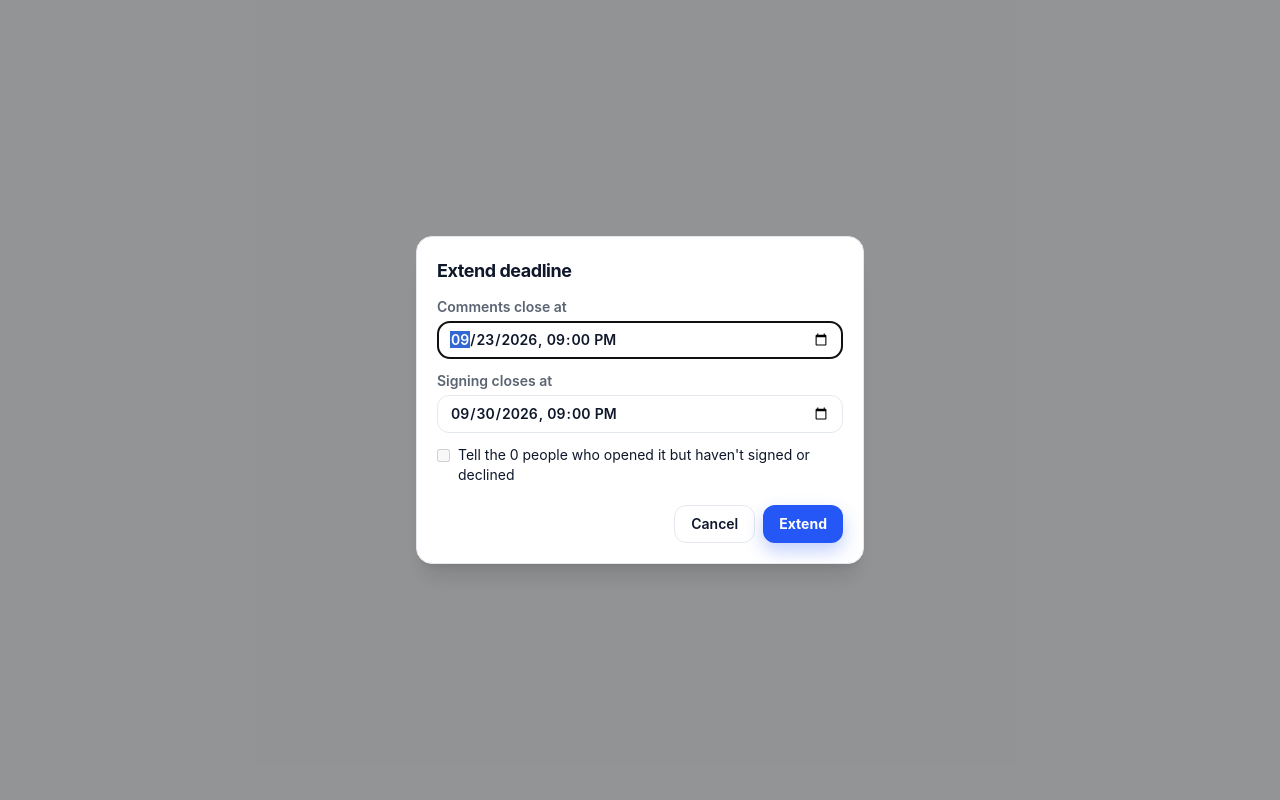
Scenario: ExtendDeadlineDialog › shows the deadline_not_later message on an earlier time
What coordinates should you click on to do the following:
click the button "Extend"
I would click on:
 (803, 524)
Its box is [763,505,843,543].
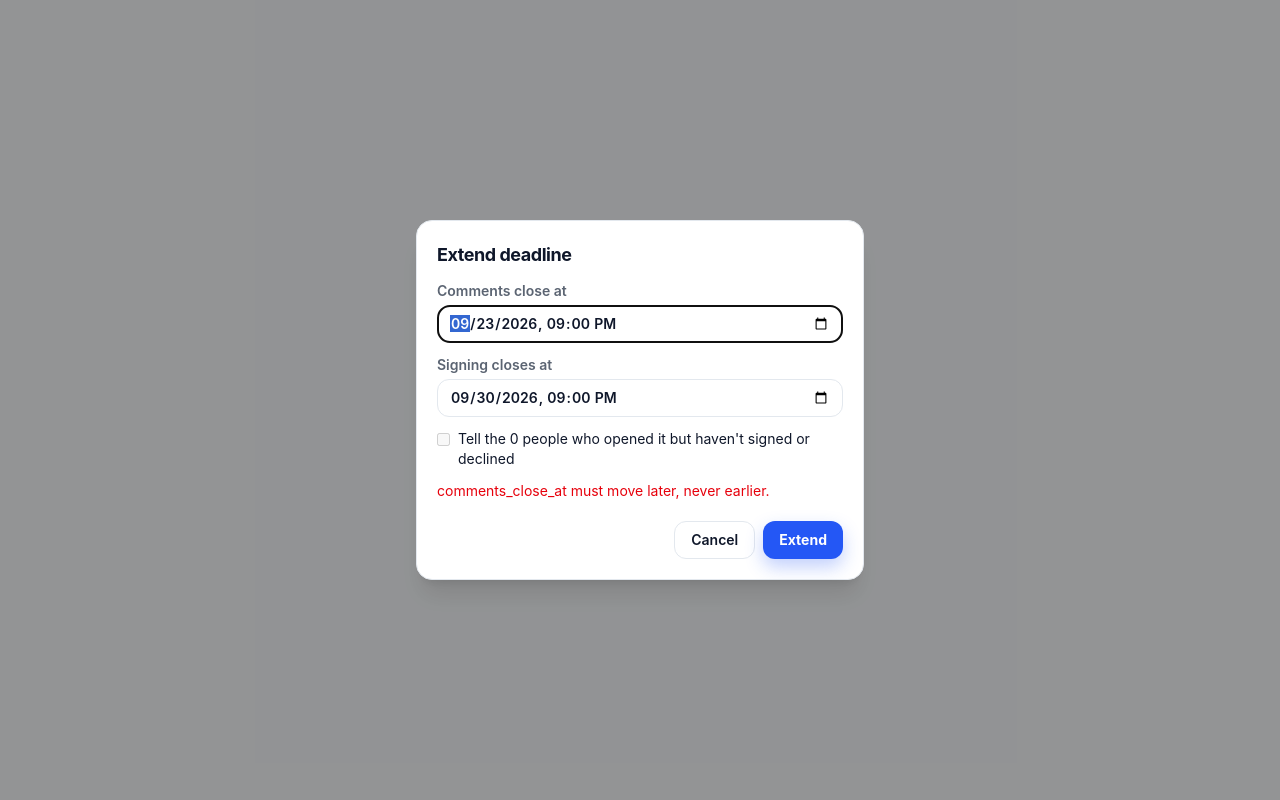
Result: the message shows "must move later, never earlier" at [437,482,770,499]
